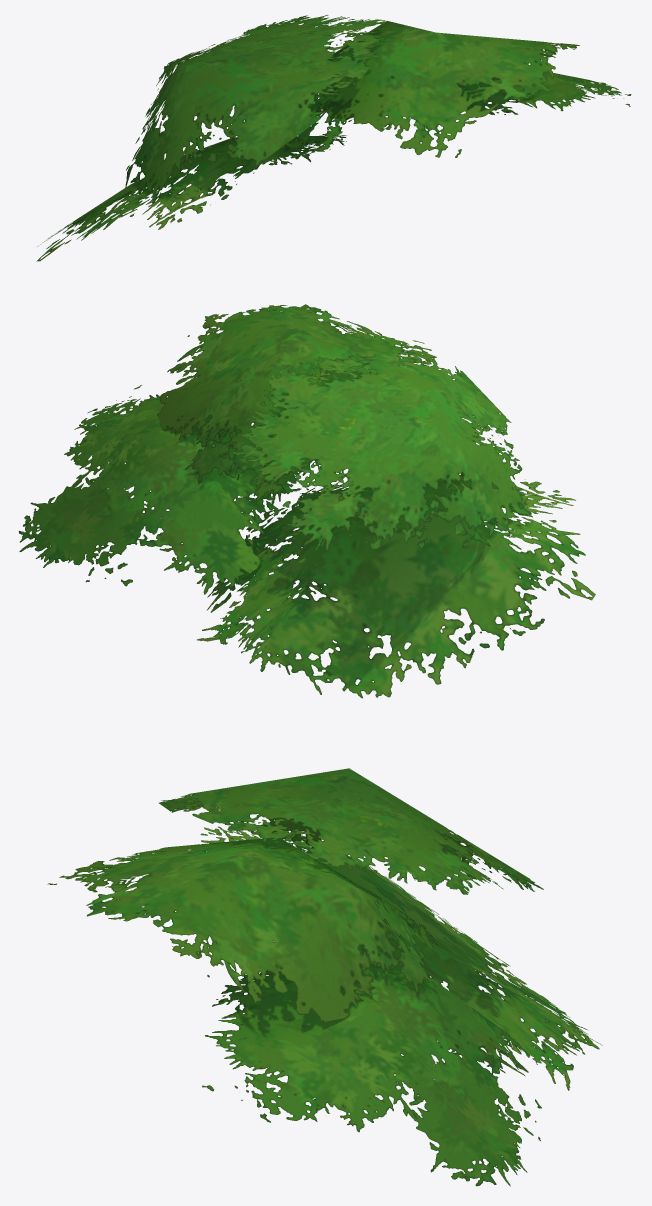
The model's file is Sce_tree_06.fbx.
3 views of the same model, one above another, from view 1: azimuth 30°, elevation 25°; view 2: azimuth 150°, elevation 25°; view 3: azimuth 270°, elevation 25° (orthographic). The views are drawn at different scales.
Parts seen in each view (by area): view 1: pasted__Sce_maincity_tree044; view 2: pasted__Sce_maincity_tree044; view 3: pasted__Sce_maincity_tree044.
Part boxes in pixels (<box>): pasted__Sce_maincity_tree044: <box>36,15,631,261</box>; pasted__Sce_maincity_tree044: <box>18,304,595,698</box>; pasted__Sce_maincity_tree044: <box>47,768,602,1186</box>.
Size of the model in its own units: 25.28 by 10.78 by 19.68.
